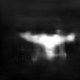plane: (18, 28, 78, 60)
